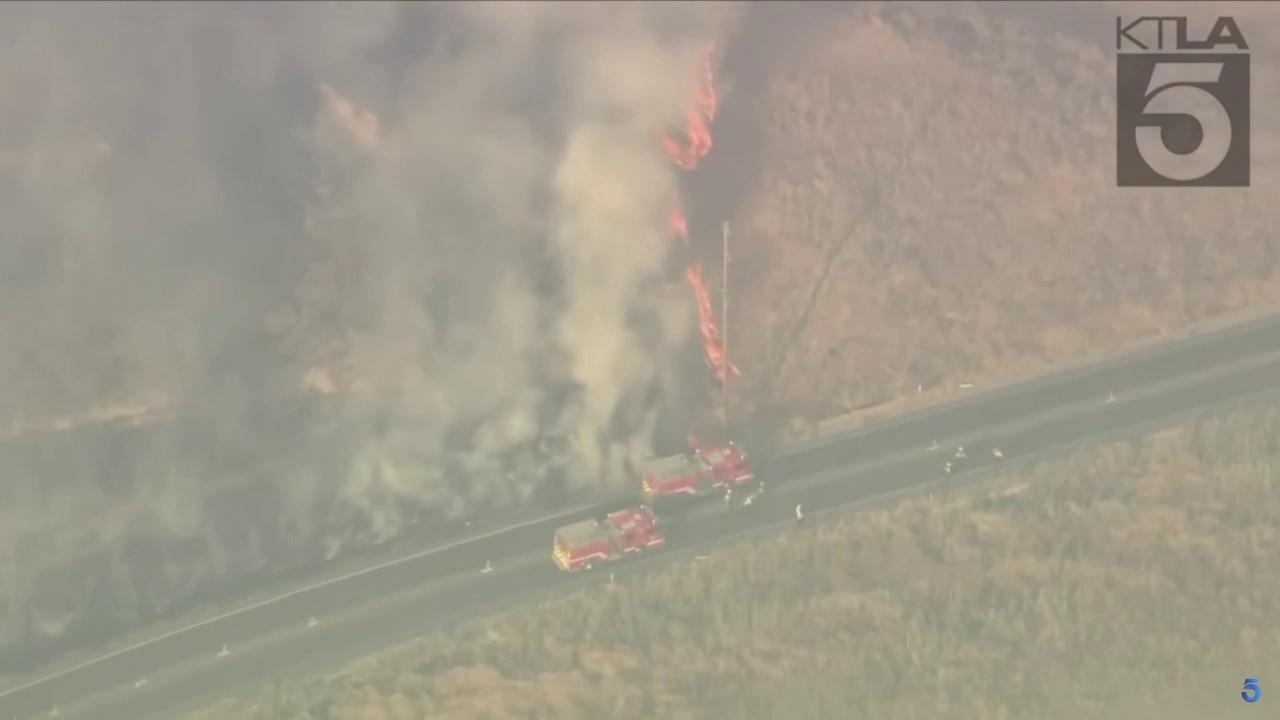fire: (657, 39, 717, 172), (685, 261, 743, 381), (664, 212, 692, 243)
smoke: (0, 0, 808, 662)
